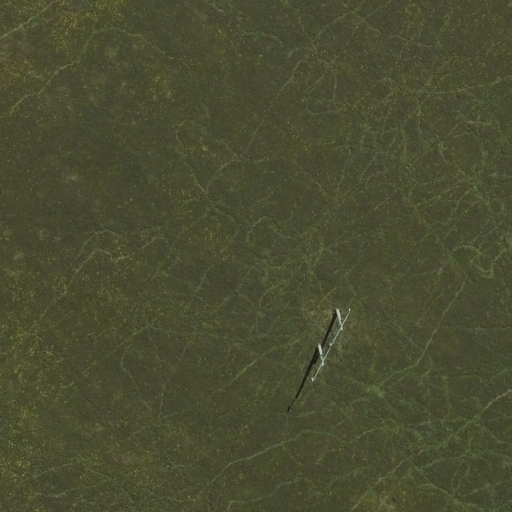DT: (302, 295, 363, 394)
